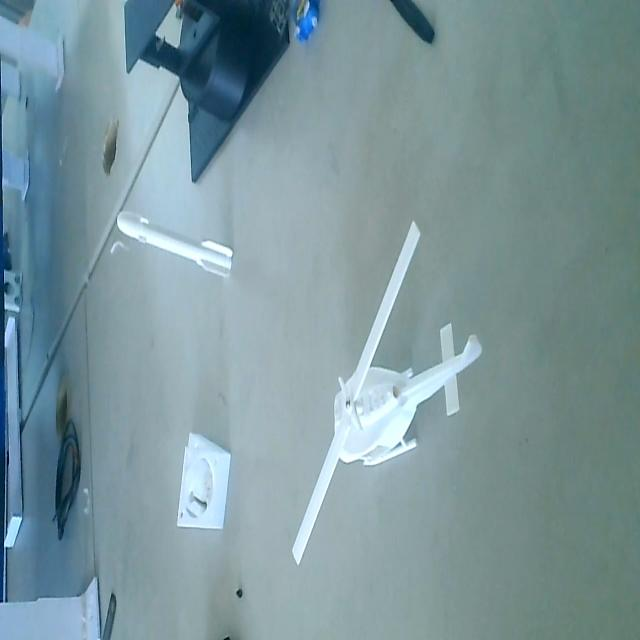Helicopter: (288, 217, 488, 565)
Rocket: (113, 201, 236, 288)
